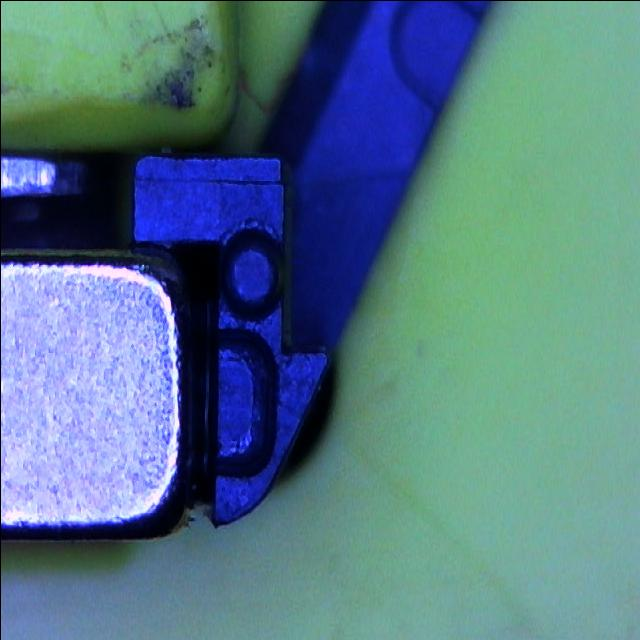lacking: (209, 326, 279, 480)
